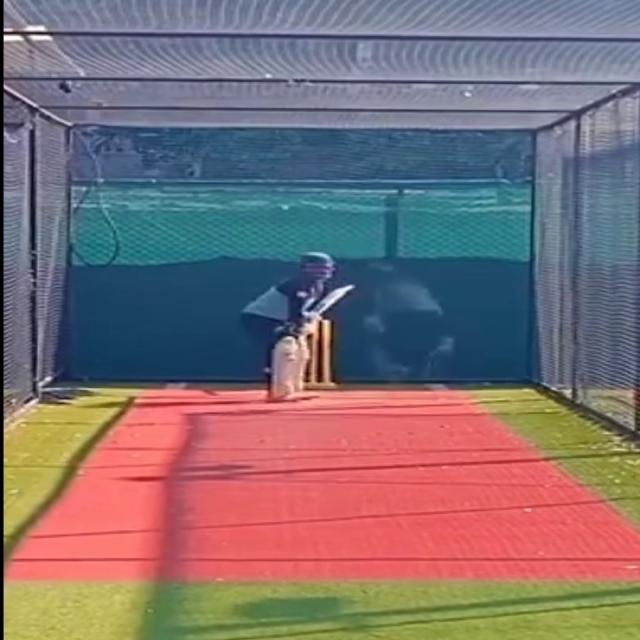stump: (301, 316, 337, 389)
